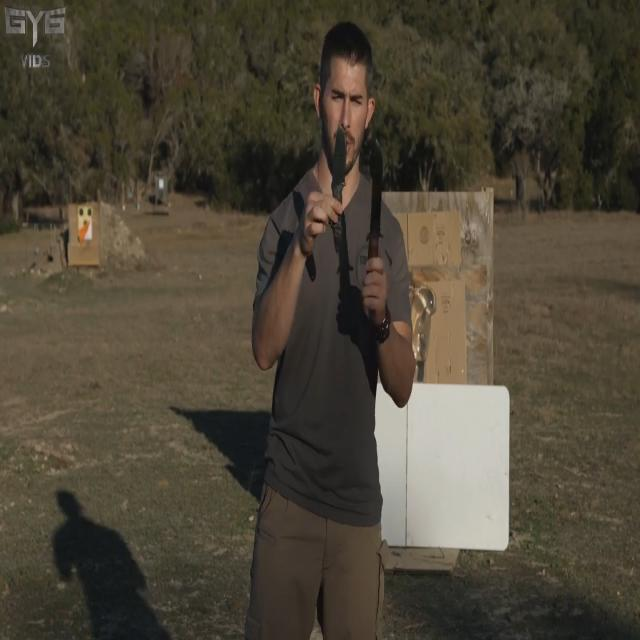knife: (330, 121, 350, 255), (372, 134, 386, 270)
